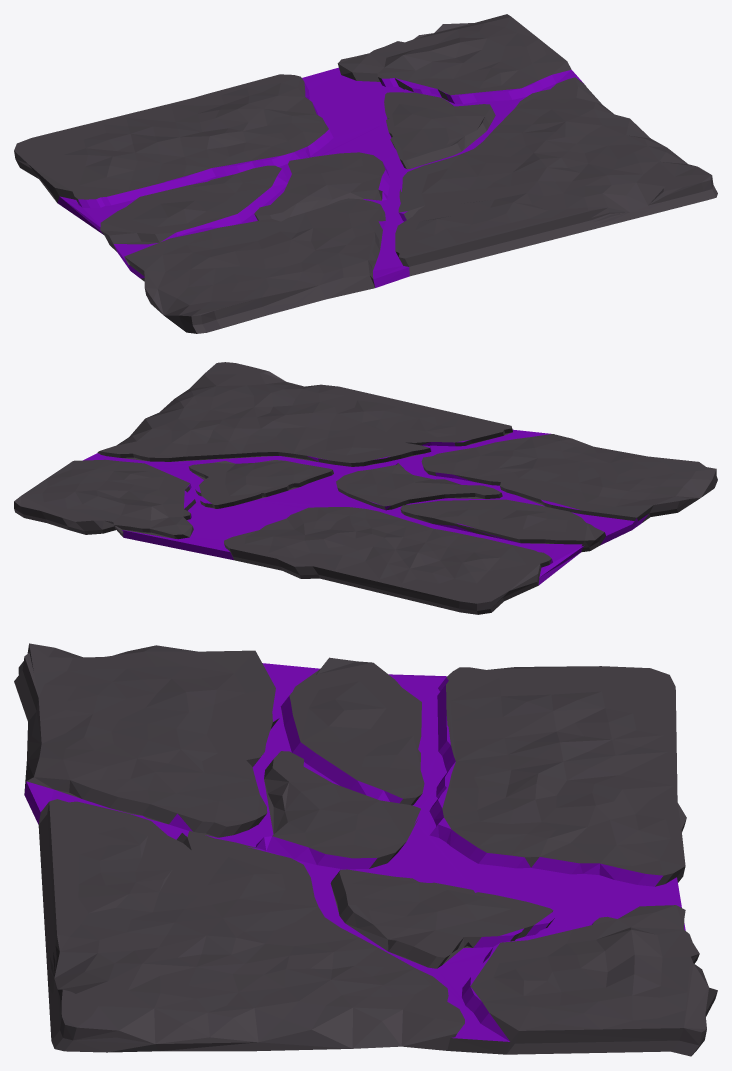
File: Field.fbx
3 renders of one model, top to bottom at view 1: azimuth 30°, elevation 25°; view 2: azimuth 150°, elevation 25°; view 3: azimuth 270°, elevation 25°, orthographic. The views are drawn at different scales.
Visible parts, largest first — view 1: Cube; view 2: Cube; view 3: Cube.
Boxes of the visible parts, bbox=[...] form: Cube: bbox=[14, 14, 717, 333]; Cube: bbox=[14, 362, 717, 614]; Cube: bbox=[14, 643, 717, 1056].
Bounding box in the file's own units: 274 × 12.8 × 207.
